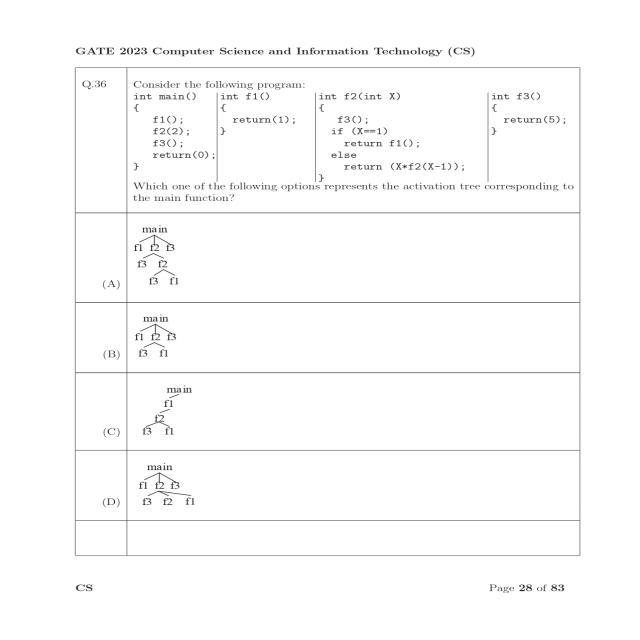Answer_Block: (76, 221, 581, 520)
Question_Answer_Block: (76, 69, 581, 520)
Question_Block: (76, 68, 581, 216)
Question_Paper_Area: (76, 69, 581, 556)
